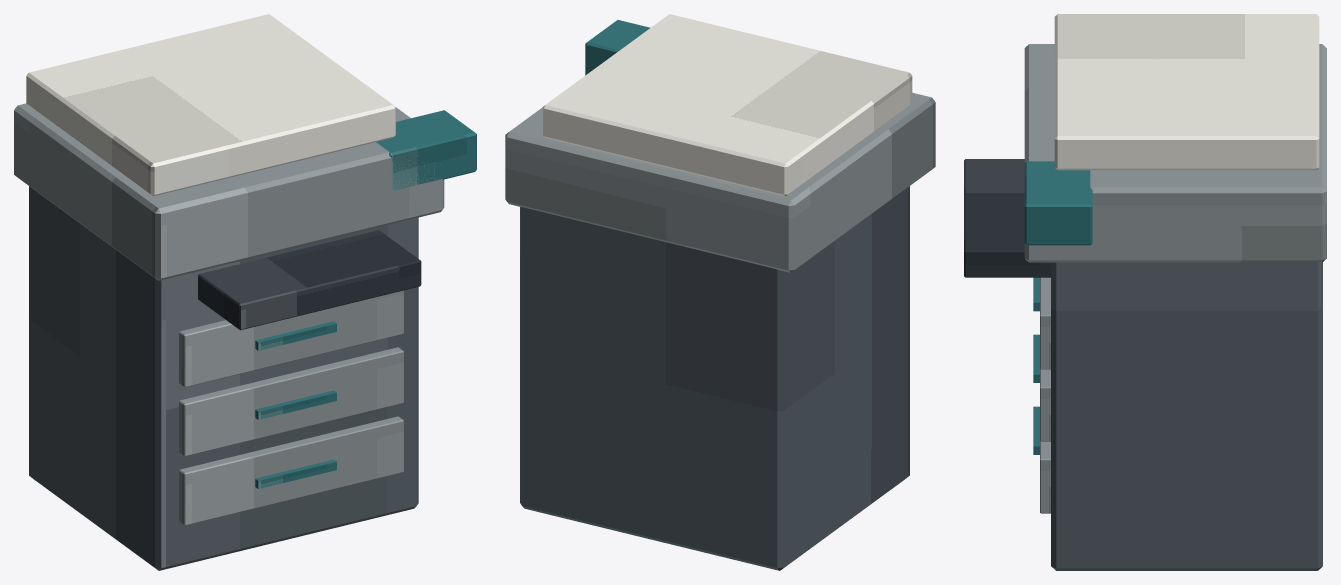
The model's file is office_photocopier.glb.
The picture shows the model from 3 angles, left to right: view 1: azimuth 30°, elevation 25°; view 2: azimuth 150°, elevation 25°; view 3: azimuth 270°, elevation 25°; orthographic projection. The views are drawn at different scales.
Visible parts, largest first — view 1: CopierBase, ScannerLid, ScannerBody, OutputTray, PaperDrawer_1, PaperDrawer_0, PaperDrawer_2, ControlPanel, DrawerHandle_2, DrawerHandle_0, DrawerHandle_1; view 2: CopierBase, ScannerLid, ScannerBody, ControlPanel; view 3: CopierBase, ScannerLid, ScannerBody, OutputTray, ControlPanel, PaperDrawer_2, PaperDrawer_0, PaperDrawer_1.
Boxes of the visible parts, x1=… form: CopierBase: x1=29, y1=186, x2=418, y2=570; ScannerLid: x1=26, y1=14, x2=395, y2=196; ScannerBody: x1=14, y1=103, x2=444, y2=280; OutputTray: x1=198, y1=230, x2=421, y2=330; PaperDrawer_1: x1=179, y1=347, x2=403, y2=456; PaperDrawer_0: x1=179, y1=416, x2=403, y2=525; PaperDrawer_2: x1=179, y1=290, x2=403, y2=387; ControlPanel: x1=376, y1=110, x2=476, y2=190; DrawerHandle_2: x1=255, y1=321, x2=336, y2=350; DrawerHandle_0: x1=255, y1=459, x2=336, y2=488; DrawerHandle_1: x1=255, y1=390, x2=336, y2=419; CopierBase: x1=520, y1=186, x2=909, y2=570; ScannerLid: x1=543, y1=14, x2=912, y2=196; ScannerBody: x1=505, y1=92, x2=935, y2=272; ControlPanel: x1=585, y1=20, x2=650, y2=75; CopierBase: x1=1051, y1=262, x2=1322, y2=570; ScannerLid: x1=1054, y1=14, x2=1319, y2=170; ScannerBody: x1=1024, y1=44, x2=1326, y2=262; OutputTray: x1=964, y1=159, x2=1050, y2=277; ControlPanel: x1=1024, y1=161, x2=1092, y2=245; PaperDrawer_2: x1=1040, y1=277, x2=1050, y2=369; PaperDrawer_0: x1=1040, y1=441, x2=1050, y2=513; PaperDrawer_1: x1=1040, y1=369, x2=1050, y2=441.
Bounding box in the file's own units: 1.02 × 1.24 × 0.96.
Materials: 1 (1 with a texture image).
